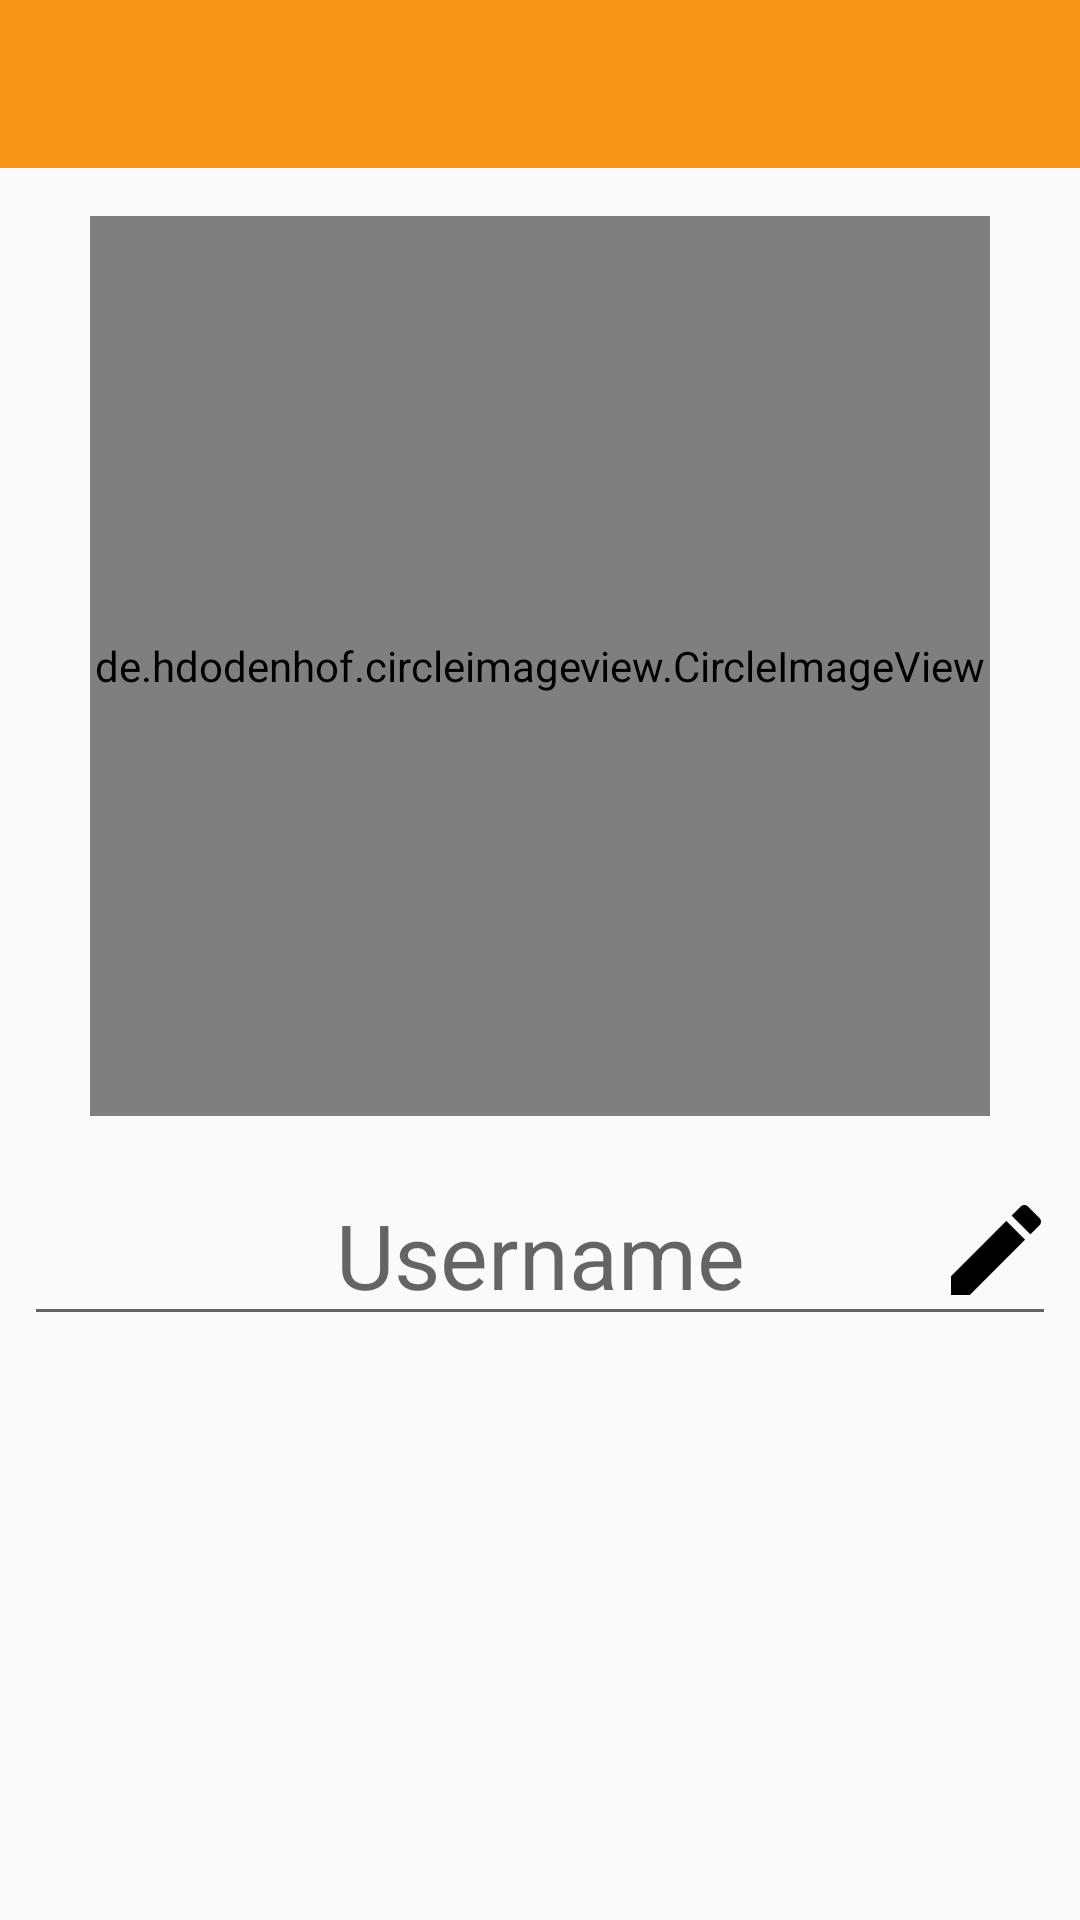

Where to tap for icons on this 1080 × 1920 app screen, as point (x, y):
pencil: point (996, 1250)
